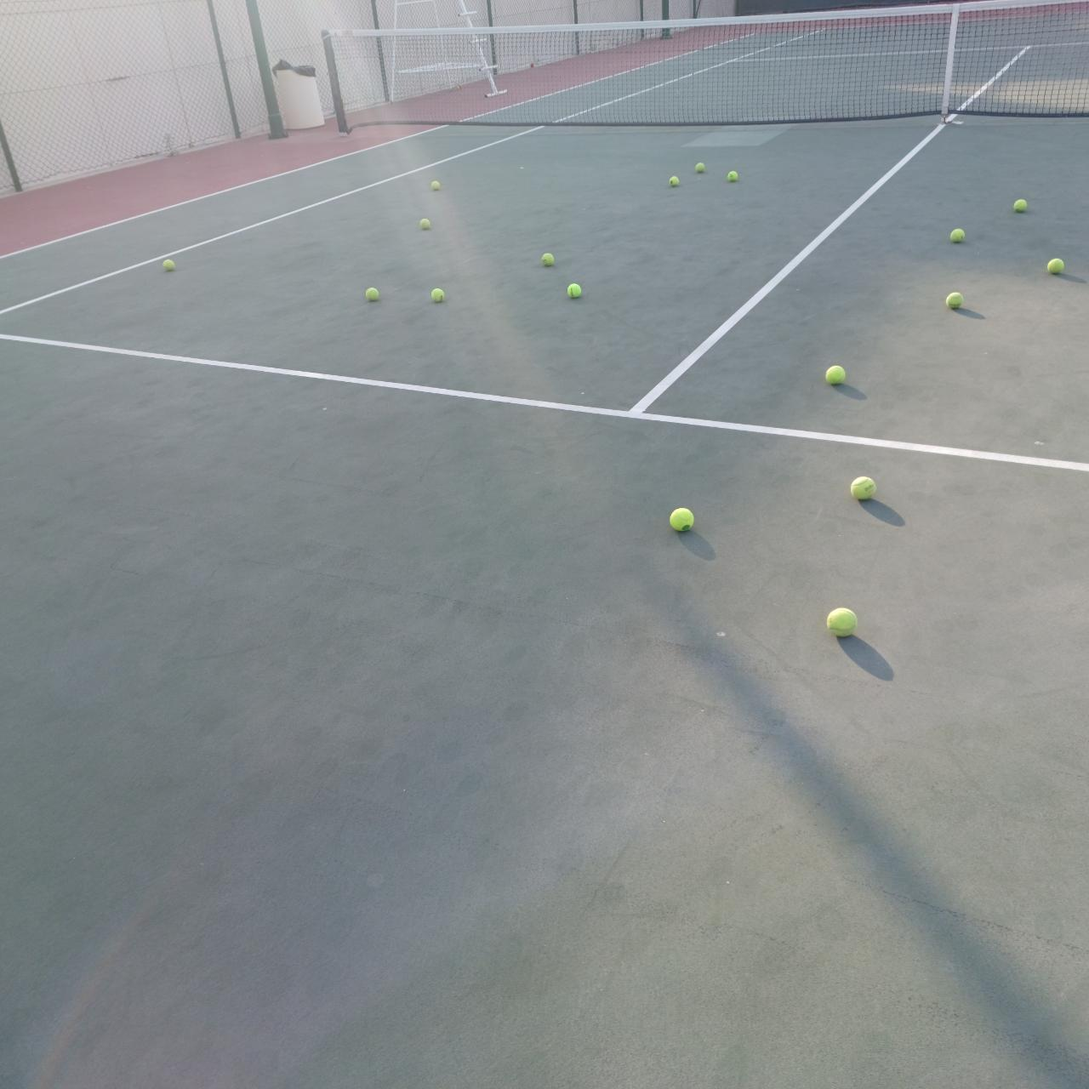tennis-ball: (824, 604, 858, 637), (848, 473, 875, 500), (668, 505, 694, 532), (824, 362, 846, 385), (944, 289, 963, 308), (1046, 255, 1063, 274), (565, 281, 582, 298), (949, 228, 966, 244), (363, 285, 379, 301), (429, 286, 444, 303), (540, 250, 555, 266), (1012, 197, 1027, 212), (163, 259, 175, 271), (727, 171, 738, 182), (419, 218, 430, 229), (695, 162, 705, 173), (431, 181, 440, 191), (669, 177, 678, 186)
